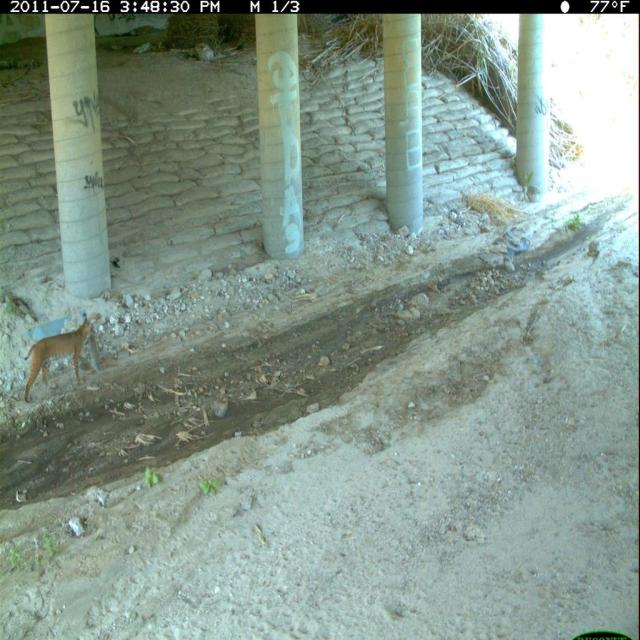bobcat: (21, 302, 106, 405)
rabbit: (87, 328, 105, 378)
